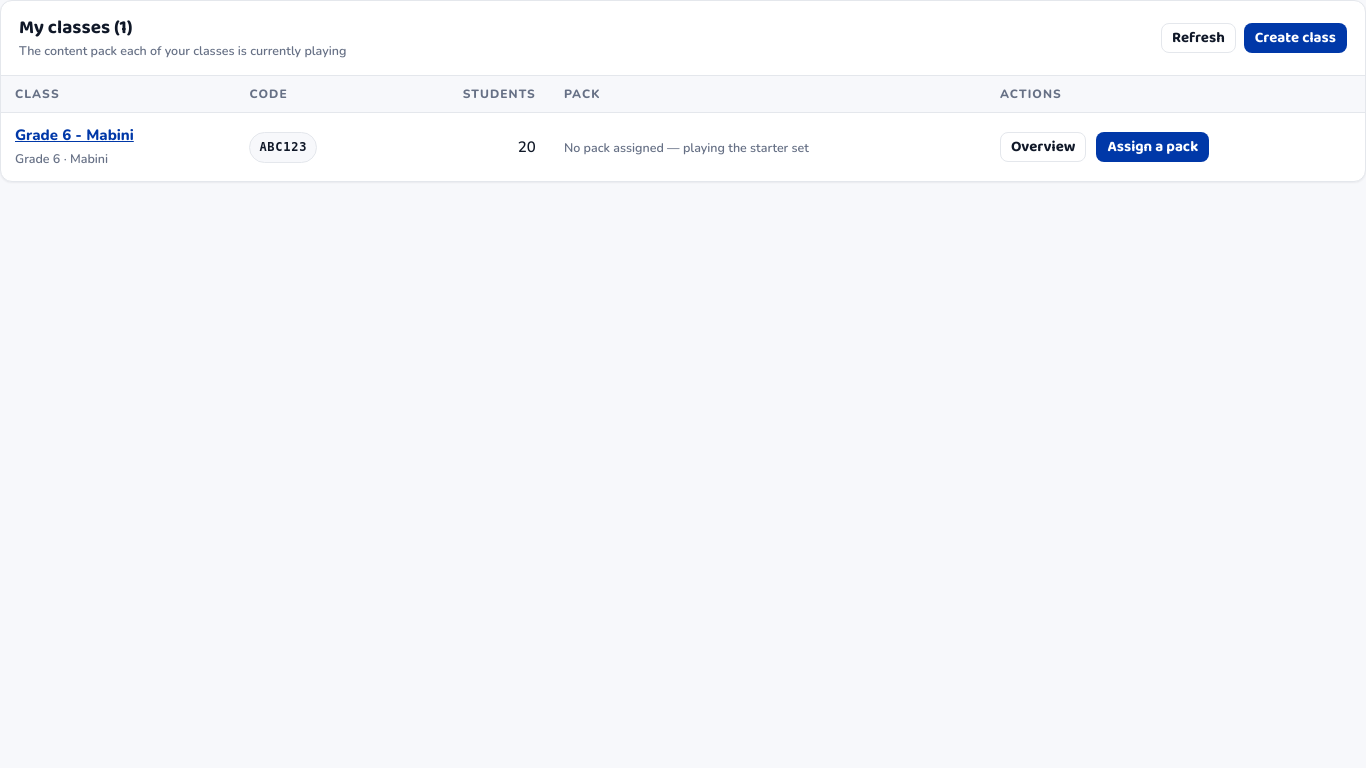
my classes › shows a cross-teacher banner when the picked pack belongs to another teacher's classes
Expected: the link "Grade 6 - Mabini" is shown, [15,125,134,145]
Click the button "Assign a pack": x=1153, y=147 [1096,132,1209,162]
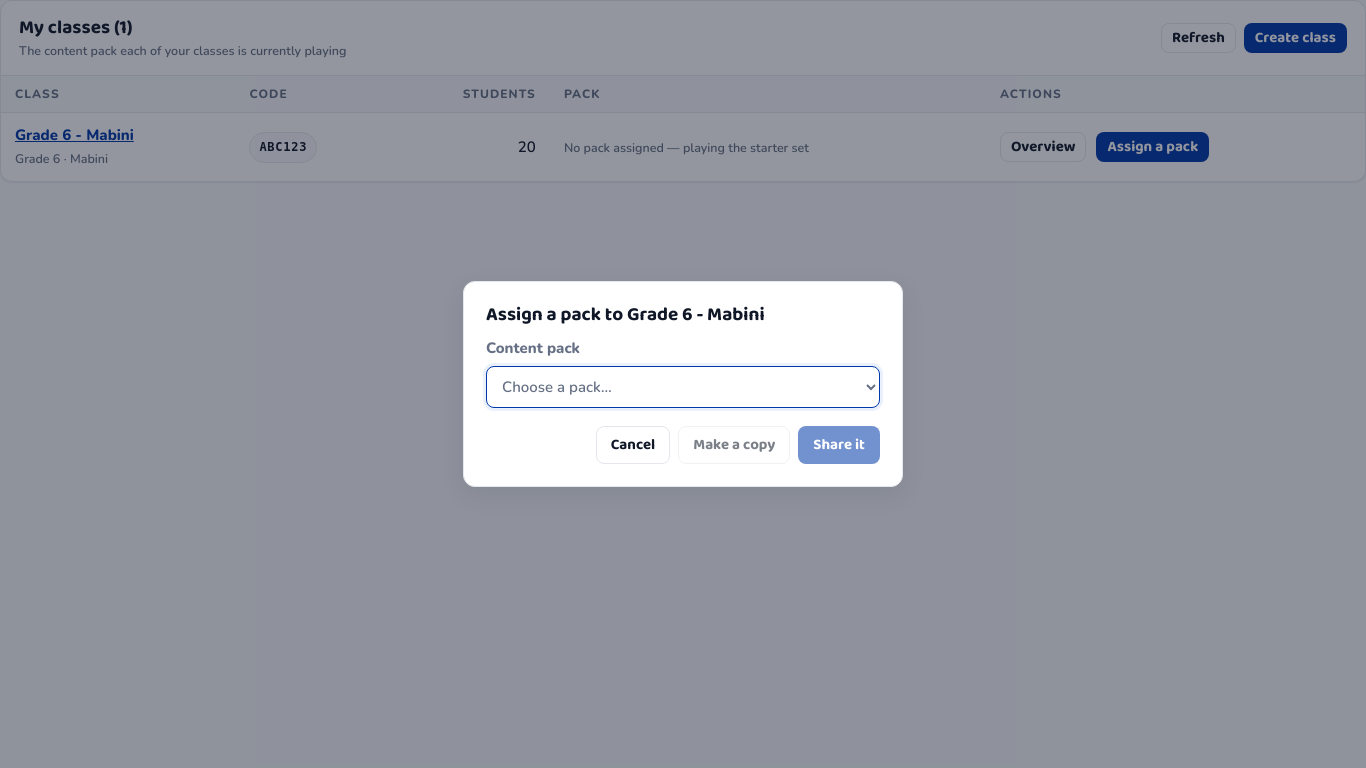
Select "Another teacher's pack" in the dropdown labelled "Content pack": x=683, y=387 [486,366,880,408]
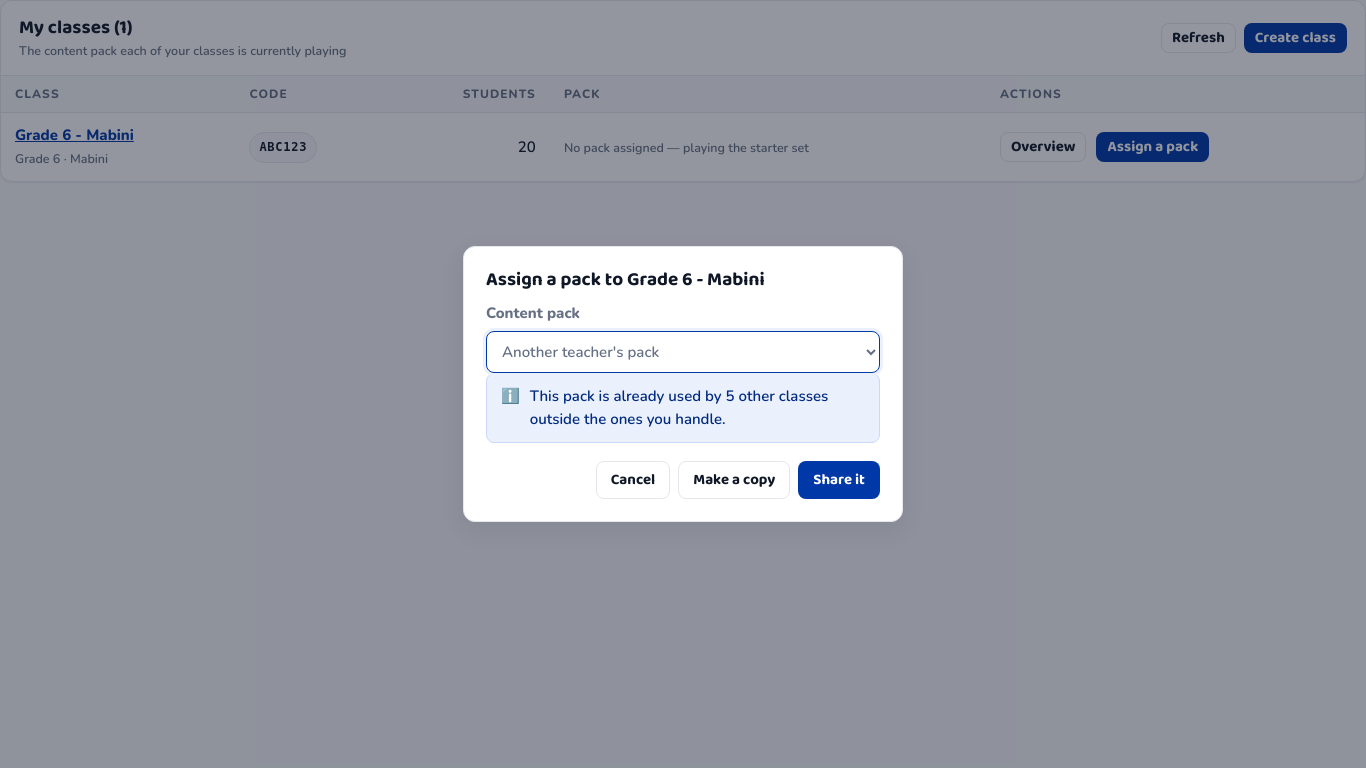
Result: the text "This pack is already used by 5 other classes outside the ones you handle." is shown at [530,385,865,431]
